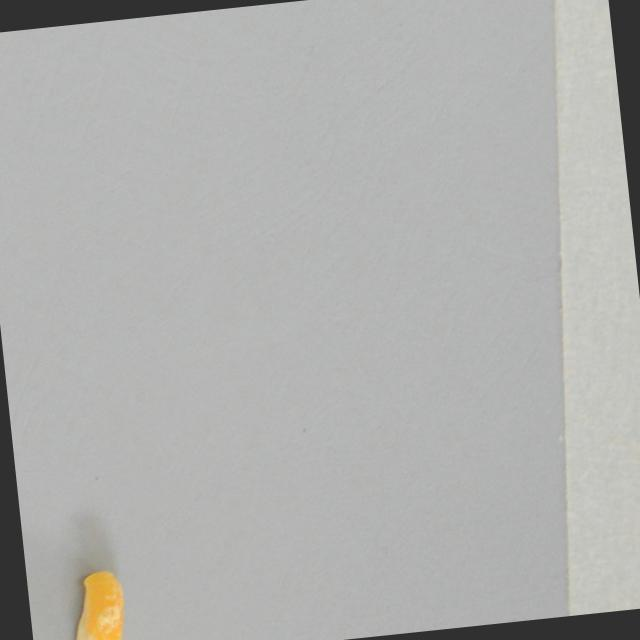pelicula: (59, 567, 130, 640)
